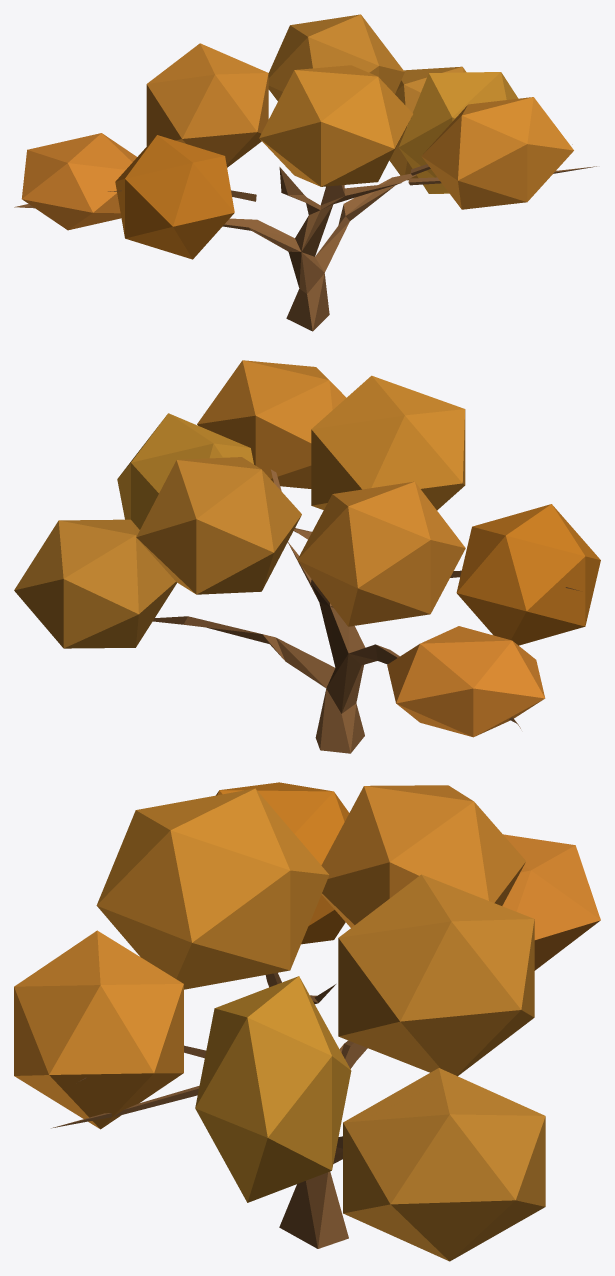
The model's file is elm_4_autumn_far.glb.
3 renders of one model, top to bottom at view 1: azimuth 30°, elevation 25°; view 2: azimuth 150°, elevation 25°; view 3: azimuth 270°, elevation 25°, orthographic. The views are drawn at different scales.
Visible parts, largest first — view 1: elm_4_autumn_far; view 2: elm_4_autumn_far; view 3: elm_4_autumn_far.
Boxes of the visible parts, left/top/right/bottom form: elm_4_autumn_far: left=14, top=14, right=596, bottom=331; elm_4_autumn_far: left=14, top=360, right=600, bottom=753; elm_4_autumn_far: left=14, top=782, right=600, bottom=1261.
Size of the model in its own units: 10.58 by 6.15 by 7.8.
